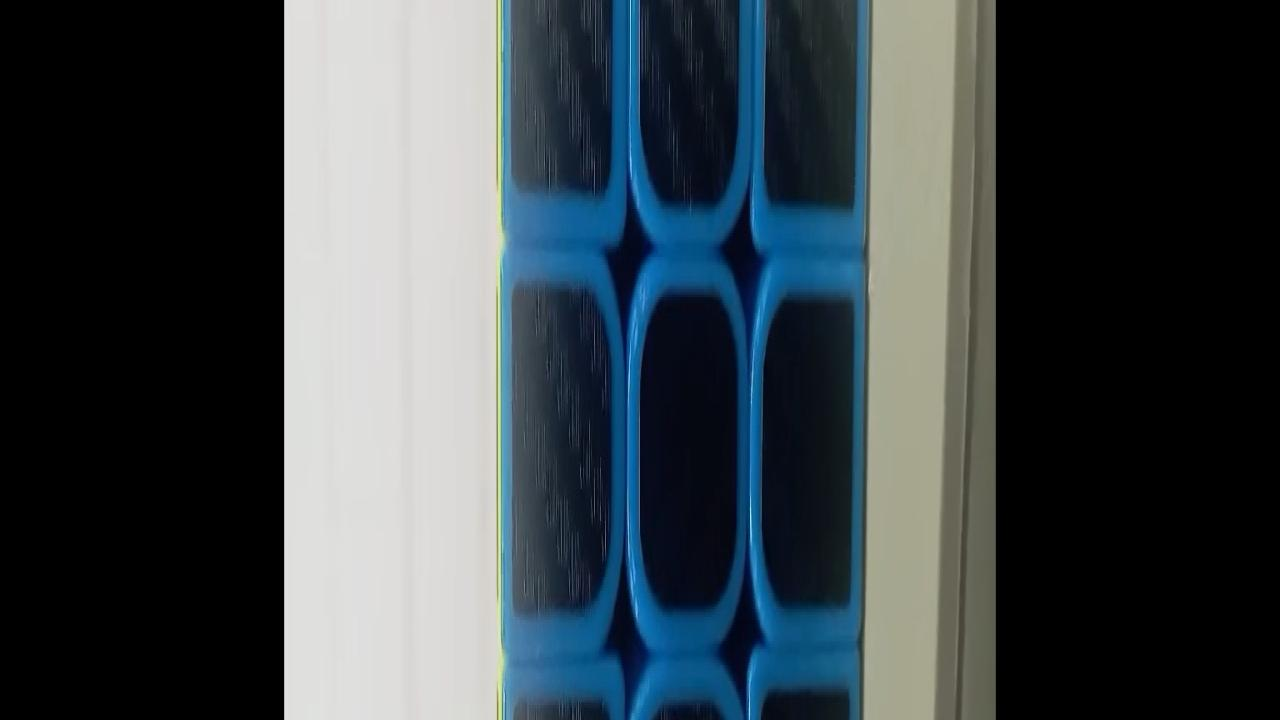Cube: (494, 0, 872, 720)
